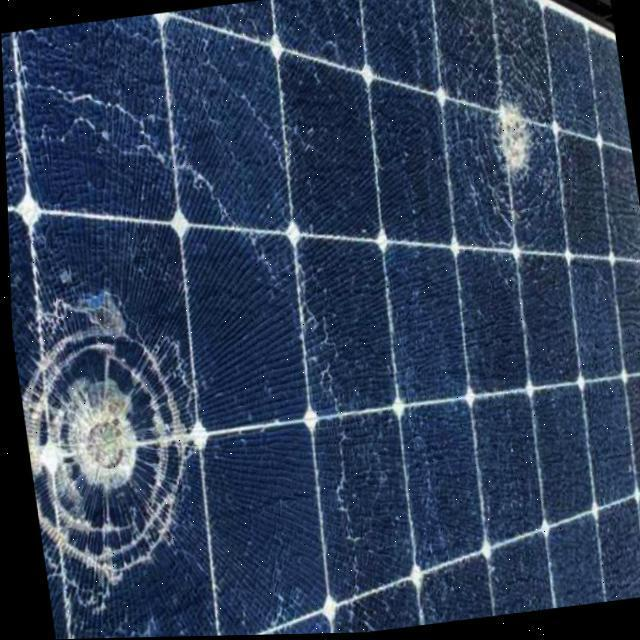Anomaly Solar Panel: (1, 0, 640, 639)
Structural Damage: (2, 78, 289, 300), (10, 309, 209, 586), (446, 52, 568, 235), (186, 34, 301, 172), (98, 16, 179, 60), (1, 24, 69, 59), (48, 616, 123, 640)
